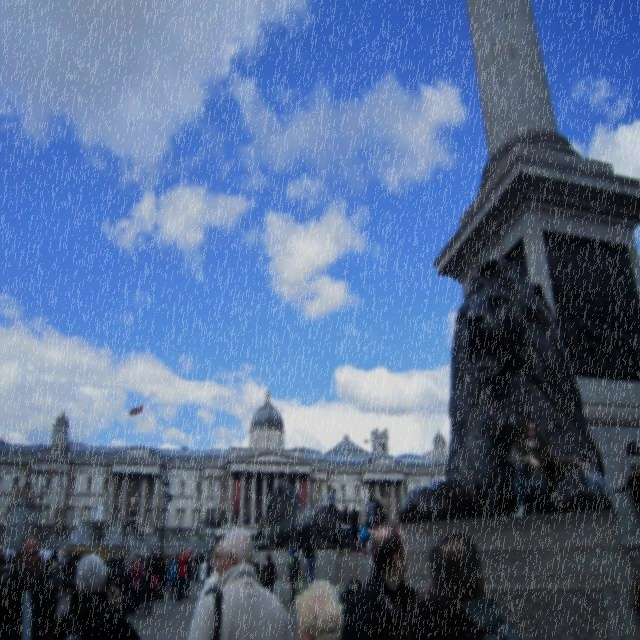pessoa: (188, 527, 294, 640), (405, 533, 515, 639), (508, 414, 590, 522), (346, 520, 418, 640), (48, 554, 146, 640), (0, 532, 56, 639), (187, 538, 225, 639), (172, 508, 262, 546), (293, 578, 345, 639), (0, 543, 47, 605), (611, 463, 640, 516), (156, 549, 180, 591), (128, 557, 144, 618), (105, 551, 126, 596), (141, 560, 157, 617), (176, 548, 192, 605), (145, 547, 161, 602), (287, 546, 301, 606), (362, 501, 376, 552), (262, 553, 277, 594), (348, 507, 361, 554), (302, 540, 315, 584), (326, 487, 342, 519), (341, 504, 351, 554), (61, 549, 72, 594), (168, 556, 178, 604), (362, 526, 378, 554), (66, 552, 77, 592), (44, 549, 60, 574), (46, 555, 60, 583), (198, 554, 208, 590), (129, 552, 151, 568), (366, 496, 376, 531), (193, 550, 203, 584), (373, 498, 384, 528), (288, 531, 300, 558), (256, 510, 266, 540), (56, 525, 74, 541), (134, 526, 148, 544), (360, 522, 368, 550), (256, 561, 264, 588), (78, 550, 99, 556), (205, 550, 214, 560), (190, 550, 193, 564)
